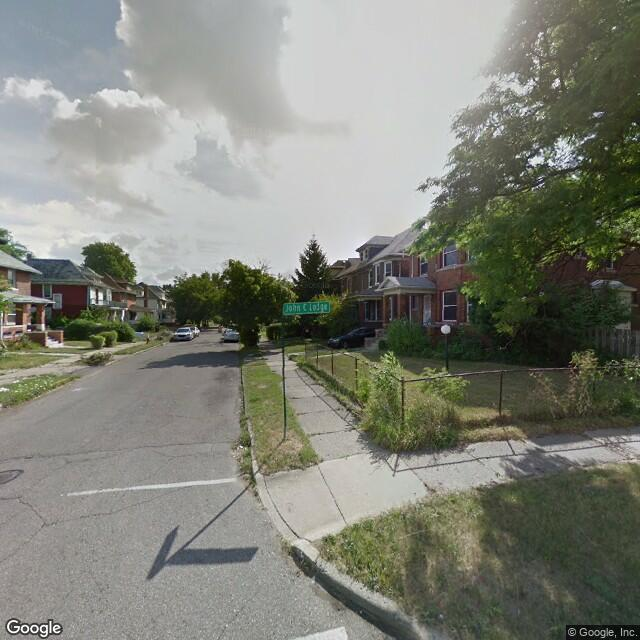litter: (234, 444, 250, 455), (309, 577, 319, 587)
